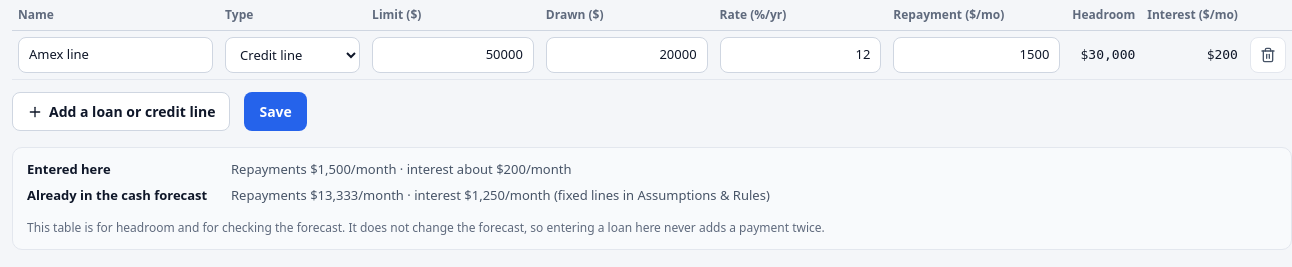
Test: LoansEditor › starts from the saved loans, works out headroom and interest as you type, and compares with the forecast
The width and height of the screenshot is (1292, 267).
Expected: the field showing "Amex line" is shown, [18,37,213,73]
Expected: the text "$30,000" is shown, [1066,30,1141,80]
Step 1. Replace the text in the field named "Drawn" with "30000" → (627, 55), box [546,37,708,73]
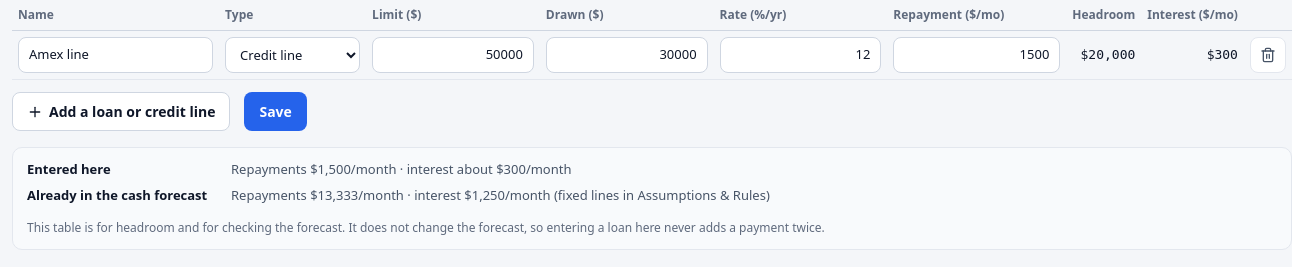
Expected: the text "Repayments $13,333/month · interest $1,250/month" is shown, [231,186,770,205]
Now the text "$20,000" is shown, box [1066,30,1141,80]
